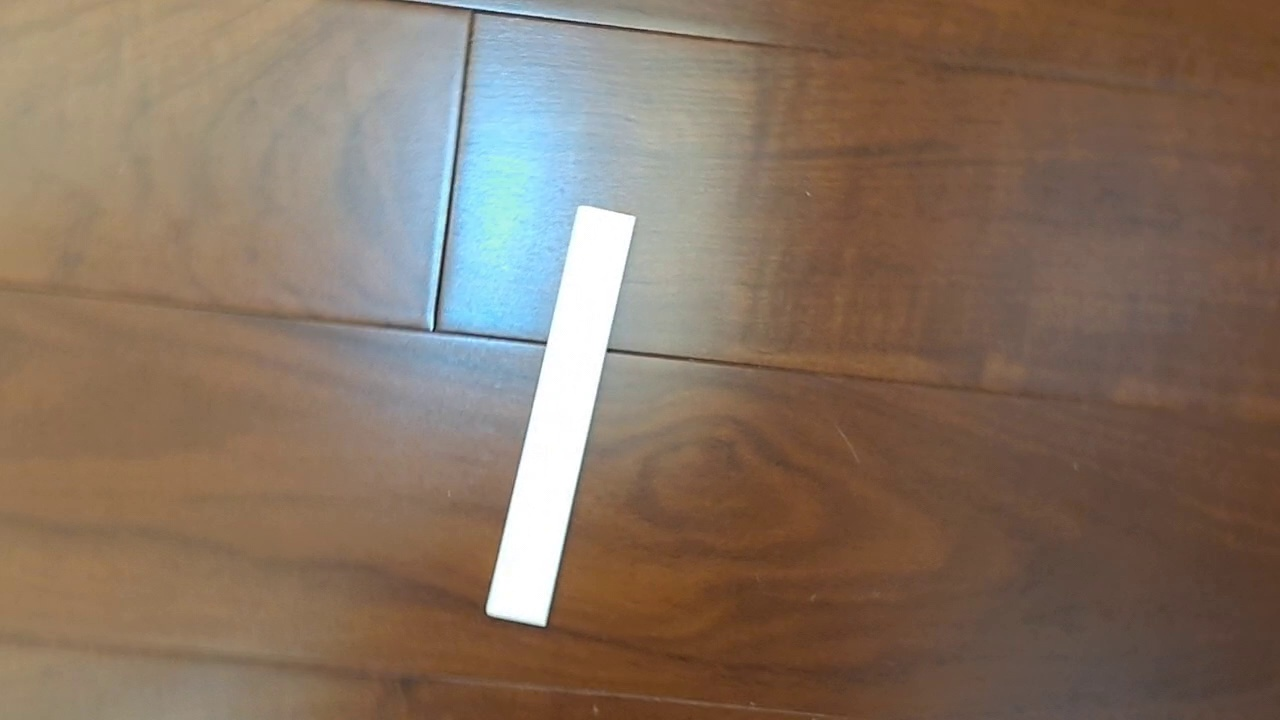ruler: (483, 202, 638, 630)
